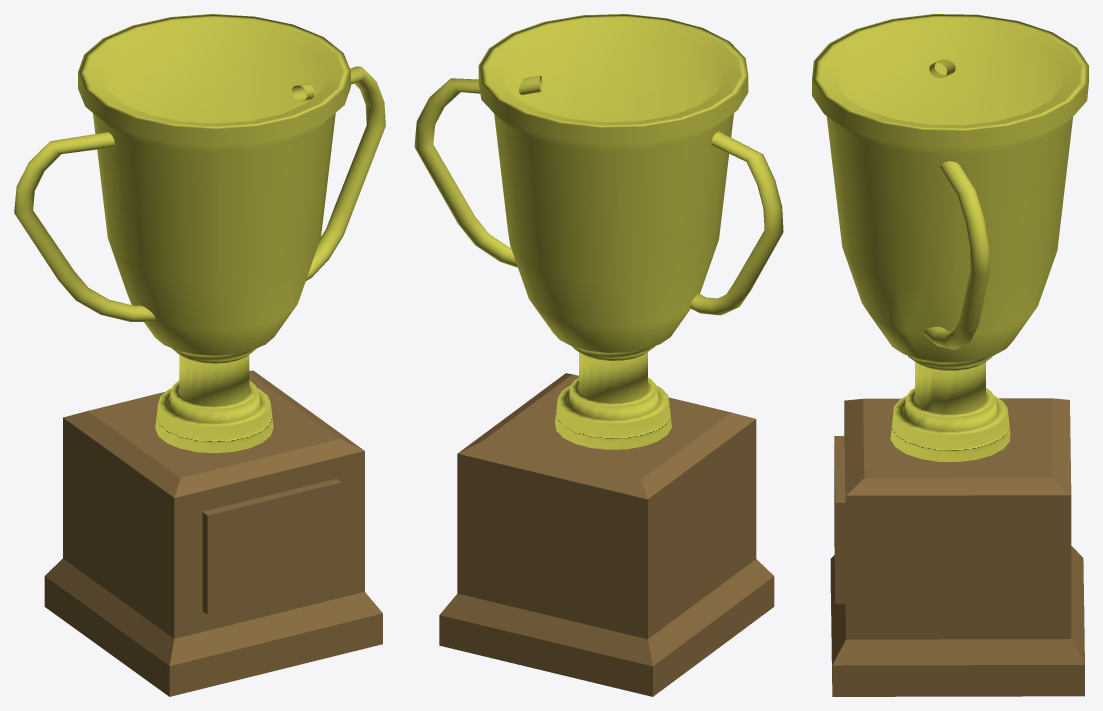
Rendered from Gold_Cup.fbx.
3 views of the same model, side by side, from view 1: azimuth 30°, elevation 25°; view 2: azimuth 150°, elevation 25°; view 3: azimuth 270°, elevation 25° (orthographic). The views are drawn at different scales.
Visible parts, largest first — view 1: Gold_Cup_msh, Pedestal_Gold_Cup_msh; view 2: Gold_Cup_msh, Pedestal_Gold_Cup_msh; view 3: Gold_Cup_msh, Pedestal_Gold_Cup_msh.
Part boxes in pixels (left/top/right/bottom): Gold_Cup_msh: left=14, top=14, right=385, bottom=453; Pedestal_Gold_Cup_msh: left=44, top=370, right=382, bottom=696; Gold_Cup_msh: left=414, top=14, right=783, bottom=449; Pedestal_Gold_Cup_msh: left=439, top=373, right=774, bottom=696; Gold_Cup_msh: left=812, top=14, right=1088, bottom=461; Pedestal_Gold_Cup_msh: left=830, top=398, right=1084, bottom=696.
Bounding box in the file's own units: 1.51 × 2.17 × 0.9576.
